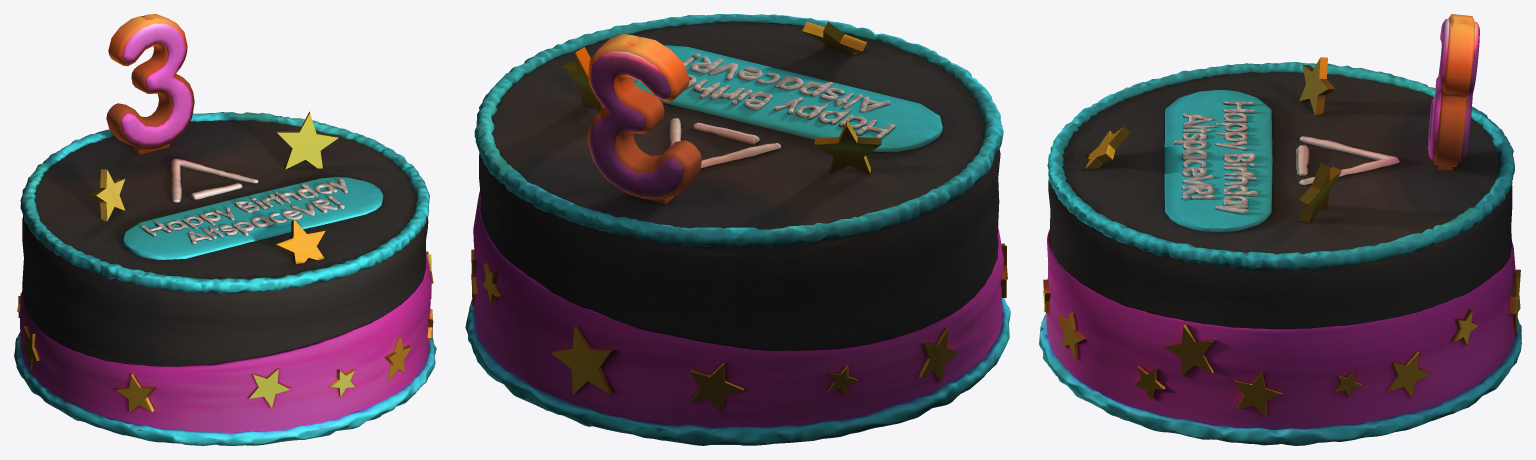
Rendered from altspacebday2.obj.
3 renders of one model, left to right at view 1: azimuth 30°, elevation 25°; view 2: azimuth 150°, elevation 25°; view 3: azimuth 270°, elevation 25°, orthographic. The views are drawn at different scales.
Visible parts, largest first — view 1: CakeLow; view 2: CakeLow; view 3: CakeLow.
Part boxes in pixels (box(x1,y1,x2,y2)): CakeLow: box(14, 14, 436, 445); CakeLow: box(465, 14, 1010, 445); CakeLow: box(1039, 14, 1521, 445).
Bounding box in the file's own units: 1.02 × 0.7641 × 1.02.
Materials: 1 (1 with a texture image).
